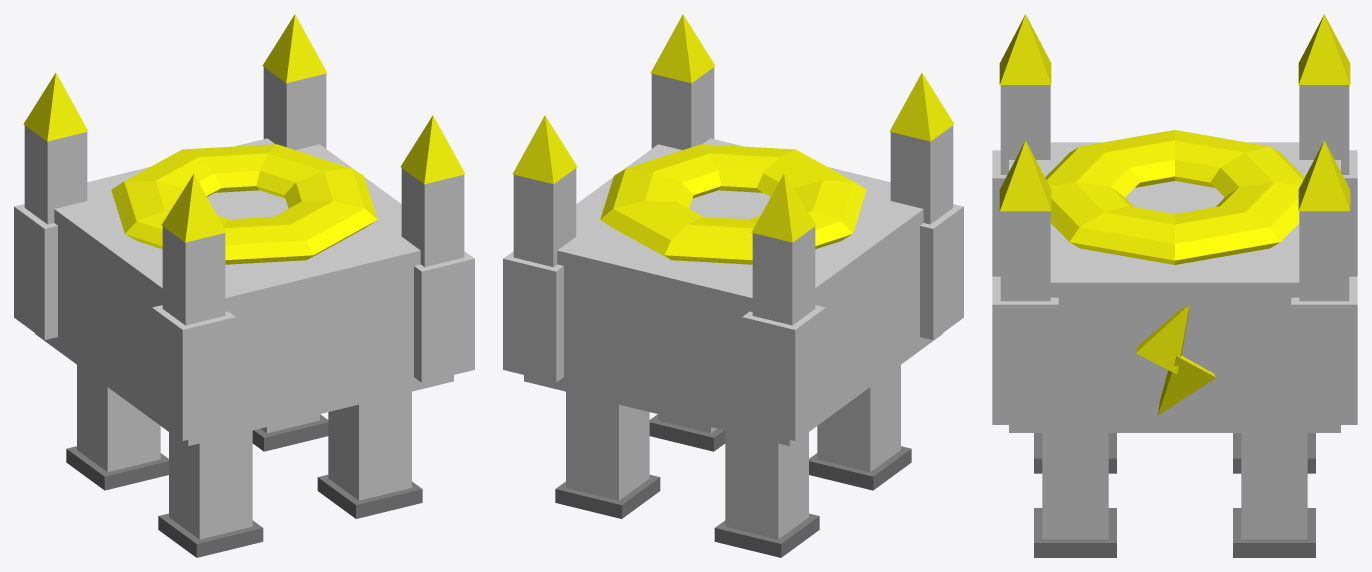
File: powerPlant.glb
3 renders of one model, left to right at view 1: azimuth 30°, elevation 25°; view 2: azimuth 150°, elevation 25°; view 3: azimuth 270°, elevation 25°, orthographic. The views are drawn at different scales.
Parts seen in each view (by area): view 1: pCube9, pTorus1, pCube10, pCube5, pCube6, pCube11, pCube8, pCube16, pCube13, pCube17, pCube15, pCube14 (+8 smaller); view 2: pCube9, pTorus1, pCube13, pCube8, pCube7, pCube12, pCube5, pCube15, pCube10, pCube14, pCube16, pCube17 (+8 smaller); view 3: pCube9, pTorus1, pCube11, pCube12, pCube6, pCube7, pCube14, pCube17, pCube15, pCube16, pCone3, pCone4 (+10 smaller).
Part boxes in pixels (x1=…): pCube9: x1=35, y1=138, x2=453, y2=445; pTorus1: x1=111, y1=144, x2=377, y2=264; pCube10: x1=152, y1=305, x2=235, y2=440; pCube5: x1=169, y1=430, x2=252, y2=539; pCube6: x1=328, y1=391, x2=411, y2=500; pCube11: x1=414, y1=251, x2=474, y2=382; pCube8: x1=77, y1=365, x2=160, y2=472; pCube16: x1=162, y1=226, x2=225, y2=325; pCube13: x1=14, y1=204, x2=57, y2=339; pCube17: x1=401, y1=168, x2=464, y2=267; pCube15: x1=24, y1=125, x2=87, y2=224; pCube14: x1=263, y1=67, x2=326, y2=149; pCube9: x1=524, y1=138, x2=942, y2=445; pTorus1: x1=600, y1=144, x2=866, y2=264; pCube13: x1=742, y1=305, x2=825, y2=440; pCube8: x1=725, y1=430, x2=808, y2=539; pCube7: x1=566, y1=391, x2=649, y2=500; pCube12: x1=503, y1=251, x2=563, y2=382; pCube5: x1=817, y1=365, x2=900, y2=472; pCube15: x1=752, y1=226, x2=815, y2=325; pCube10: x1=920, y1=204, x2=963, y2=339; pCube14: x1=513, y1=168, x2=576, y2=267; pCube16: x1=890, y1=125, x2=953, y2=224; pCube17: x1=651, y1=67, x2=714, y2=149; pCube9: x1=1009, y1=142, x2=1340, y2=432; pTorus1: x1=1045, y1=130, x2=1304, y2=264; pCube11: x1=992, y1=276, x2=1058, y2=424; pCube12: x1=1291, y1=276, x2=1357, y2=424; pCube6: x1=1042, y1=433, x2=1108, y2=539; pCube7: x1=1241, y1=433, x2=1307, y2=539; pCube14: x1=1299, y1=211, x2=1349, y2=301; pCube17: x1=1000, y1=211, x2=1050, y2=301; pCube15: x1=1299, y1=85, x2=1349, y2=174; pCube16: x1=1000, y1=85, x2=1050, y2=174; pCone3: x1=999, y1=140, x2=1051, y2=211; pCone4: x1=1298, y1=140, x2=1350, y2=211.
Size of the model in its own units: 4.42 by 5.6 by 4.4.
